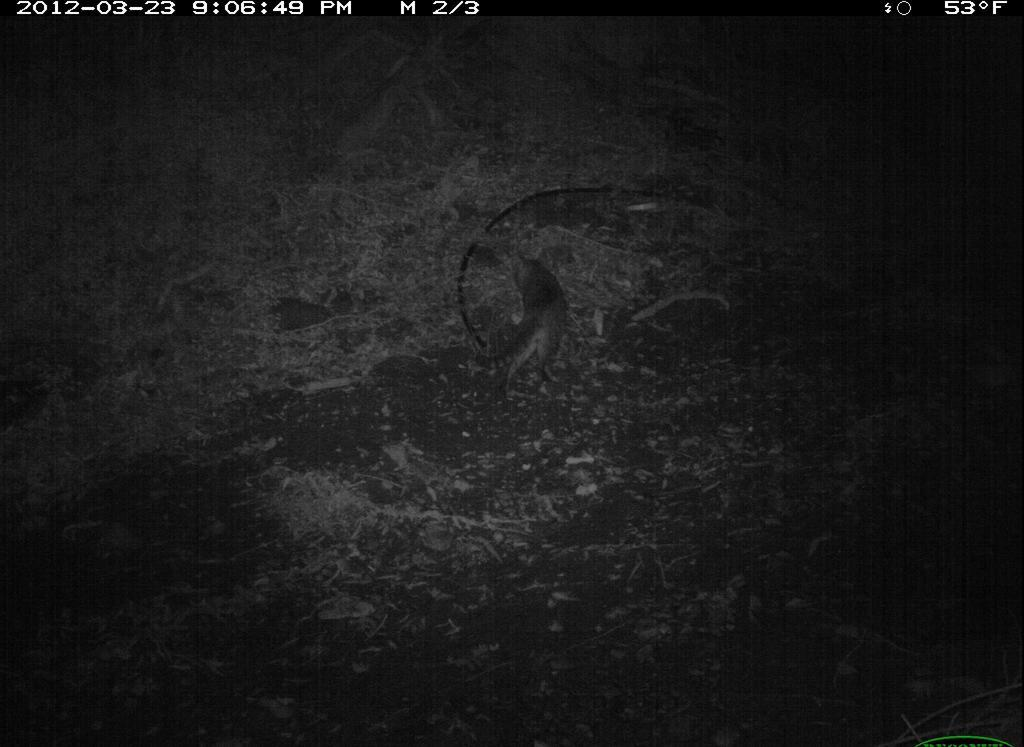cat: (478, 240, 596, 409)
